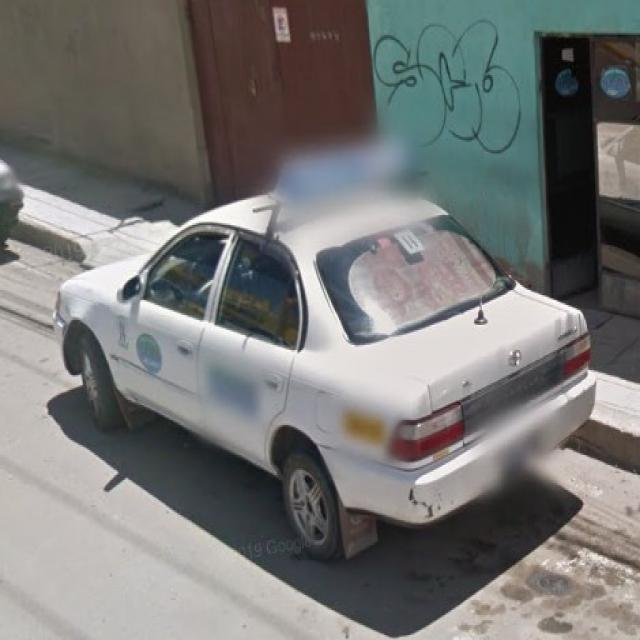cars: (58, 142, 592, 545)
